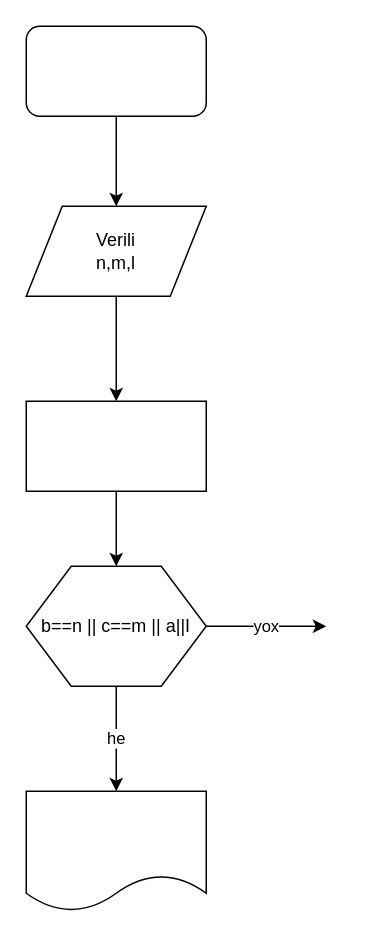
Image size: 365x938. Some labels were removed from this diagram. Here are the shapes that lost their labels. From the top down, the centre of each, then its label:
At point 115,70: "Basla".
At point 115,445: "a=n+m b=n+l c=m+l".
